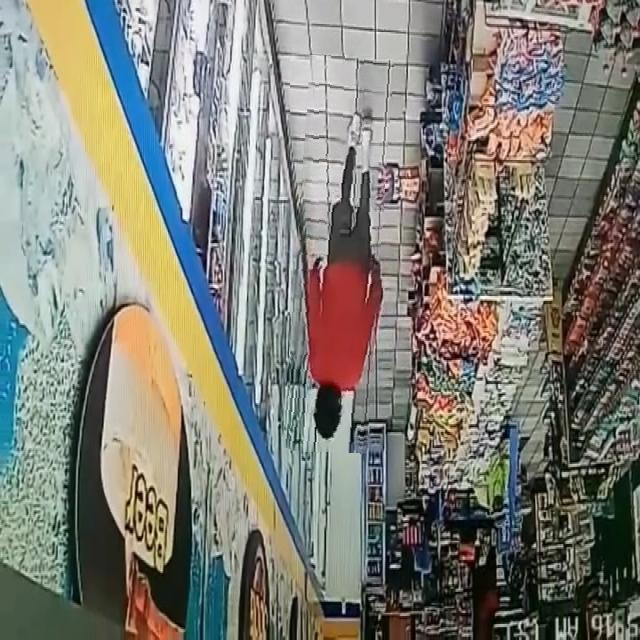normal: (290, 56, 387, 453)
